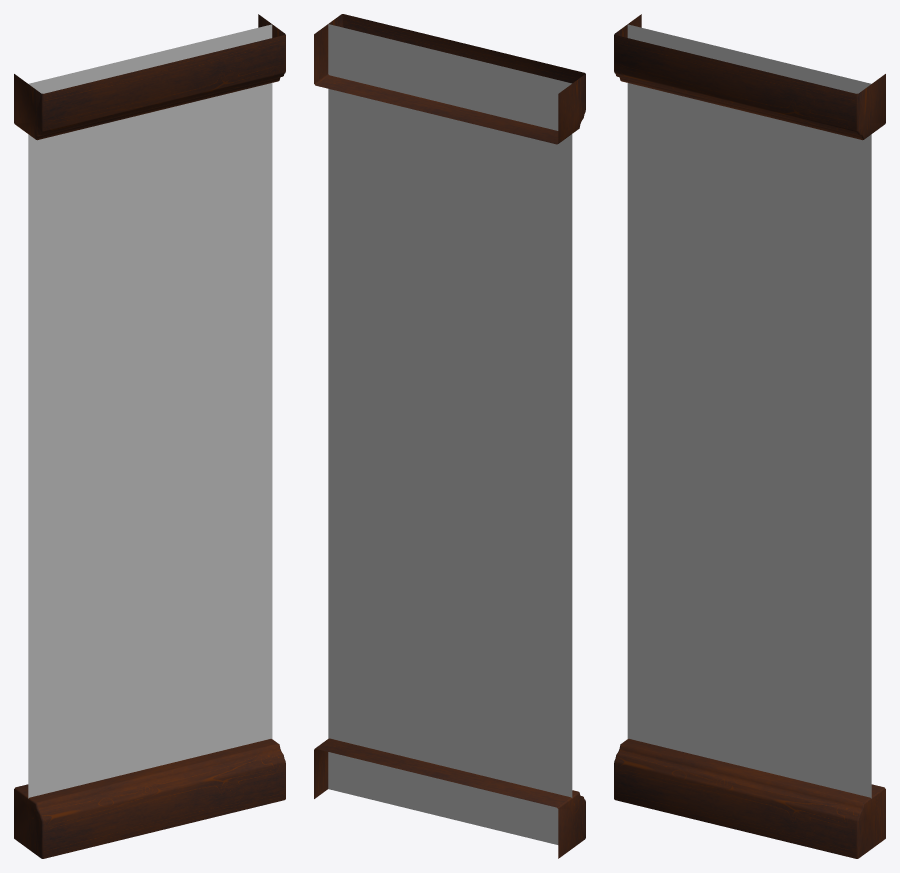
Rendered from Mesh_Modular_Wall_3x1.fbx.
3 renders of one model, left to right at view 1: azimuth 30°, elevation 25°; view 2: azimuth 150°, elevation 25°; view 3: azimuth 330°, elevation 25°, orthographic.
Parts seen in each view (by area): view 1: Madular_Wall_3x1; view 2: Madular_Wall_3x1; view 3: Madular_Wall_3x1.
Boxes of the visible parts, bbox=[...] form: Madular_Wall_3x1: bbox=[14, 14, 285, 858]; Madular_Wall_3x1: bbox=[314, 14, 585, 858]; Madular_Wall_3x1: bbox=[614, 14, 885, 858].
Size of the model in its own units: 1 by 3 by 0.2.
